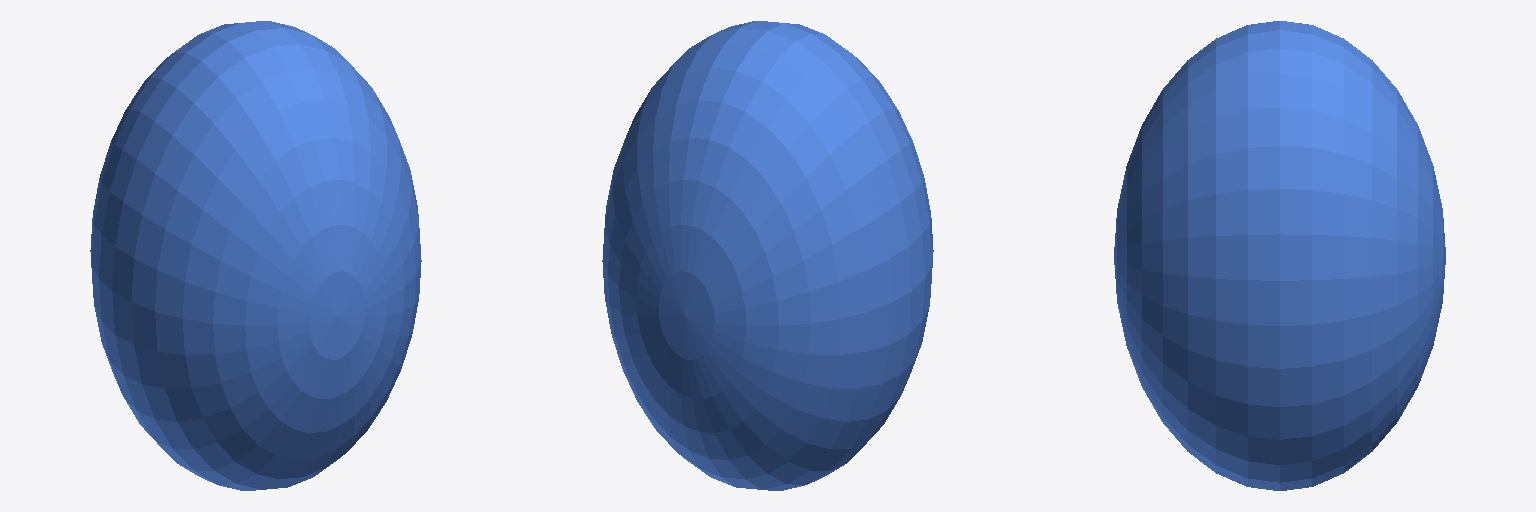
The robot description file, URDF, robot "fr3_link6_robot":
<?xml version="0.0" ?>
<robot name="fr3_link6_robot">
  <link name="base_link">
    <inertial>
      <origin rpy="0 0 0" xyz="0 0 0"/>
       <mass value=".1"/>
       <inertia ixx="1" ixy="0" ixz="0" iyy="1" iyz="0" izz="1"/>
    </inertial>
    
    <visual>
      <origin rpy="0 0 0" xyz="0 0 0.00"/>
      <geometry>
        <mesh filename="package://meshes/fr3_link6_ellipsoid.obj"/>
      </geometry>
      <material name="cornflowerblue">
        <color rgba="0.3921 0.5843 0.9294 0.8"/>
      </material>
    </visual>
  </link>
</robot>

--- What the picture shows (computed from the rendered views, not written in the file) ---
Views: 3 orthographic renders of the robot side by side, from view 1: azimuth 30°, elevation 25°; view 2: azimuth 150°, elevation 25°; view 3: azimuth 270°, elevation 25°.
Model fr3_link6_robot with 1 links and 0 joints (none), rooted at base_link, posed all joints at 0.
Visible links, largest first — view 1: base_link; view 2: base_link; view 3: base_link.
Boxes of the visible links, x1,y1,x2,y2 form: base_link: (90,21,421,490); base_link: (602,21,933,490); base_link: (1114,21,1445,490).
Bounding box of the posed robot: 0.16 × 0.16 × 0.24 m (x, y, z).
1 mesh visuals loaded from 1 distinct referenced files (1 OBJ).